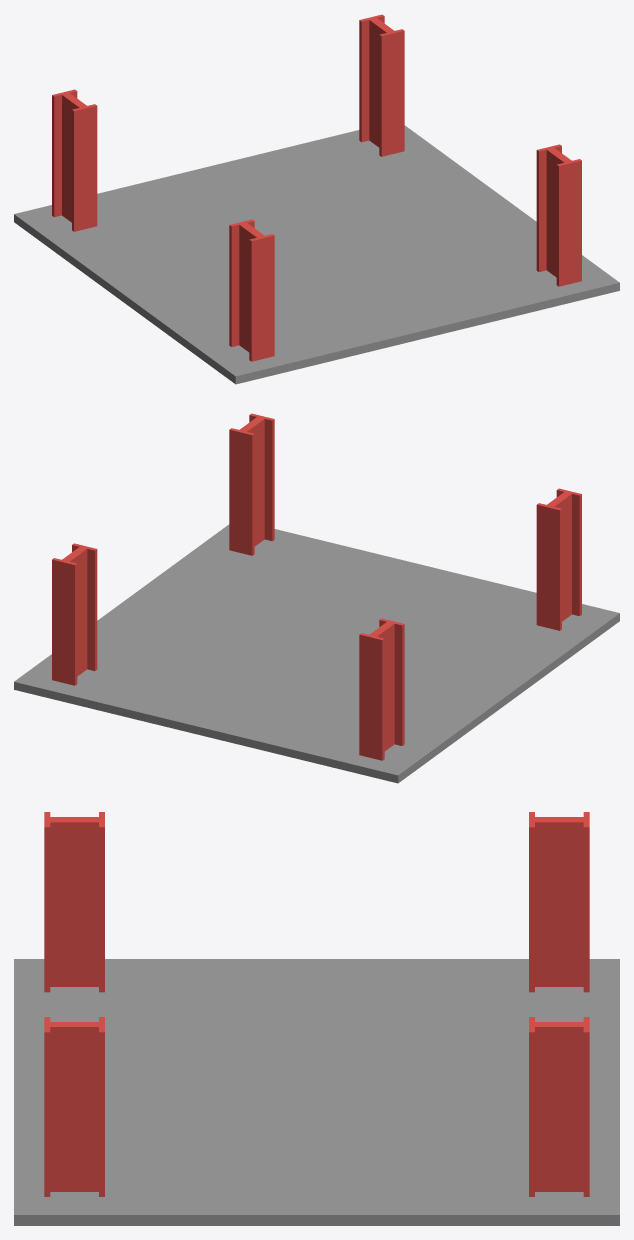
Rendered from BuildingFloorGirders.fbx.
3 renders of one model, top to bottom at view 1: azimuth 30°, elevation 25°; view 2: azimuth 150°, elevation 25°; view 3: azimuth 270°, elevation 25°, orthographic. The views are drawn at different scales.
Visible parts, largest first — view 1: Cube.002; view 2: Cube.002; view 3: Cube.002.
Part boxes in pixels (bbox=[...]): Cube.002: bbox=[14, 14, 619, 384]; Cube.002: bbox=[14, 413, 619, 783]; Cube.002: bbox=[14, 812, 619, 1225].
Size of the model in its own units: 1000 by 320 by 1000.
